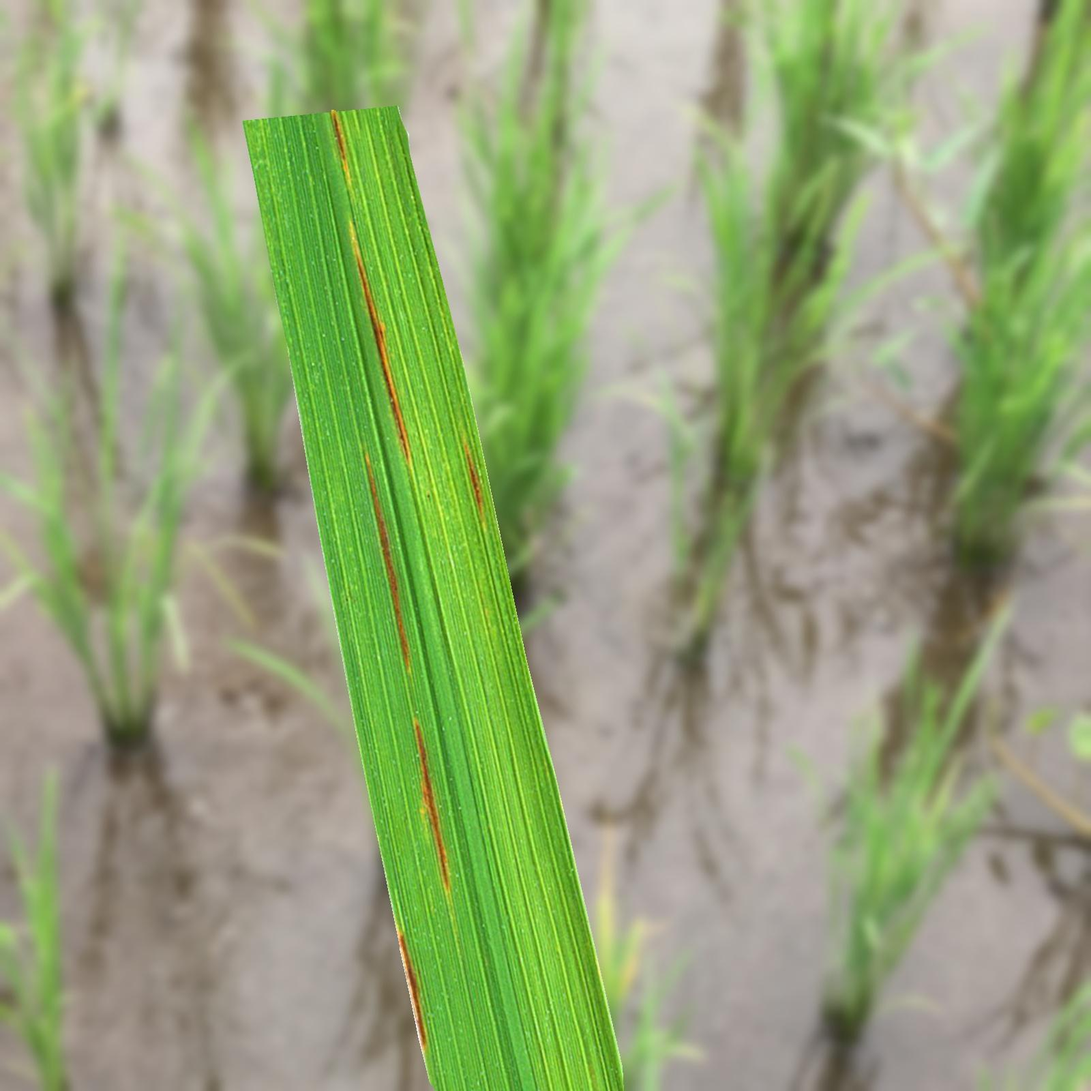LEAF: (242, 106, 624, 1090)
NBS: (353, 234, 407, 460), (365, 453, 410, 669), (415, 719, 449, 894), (399, 932, 426, 1051), (464, 440, 483, 518), (331, 110, 348, 179)
